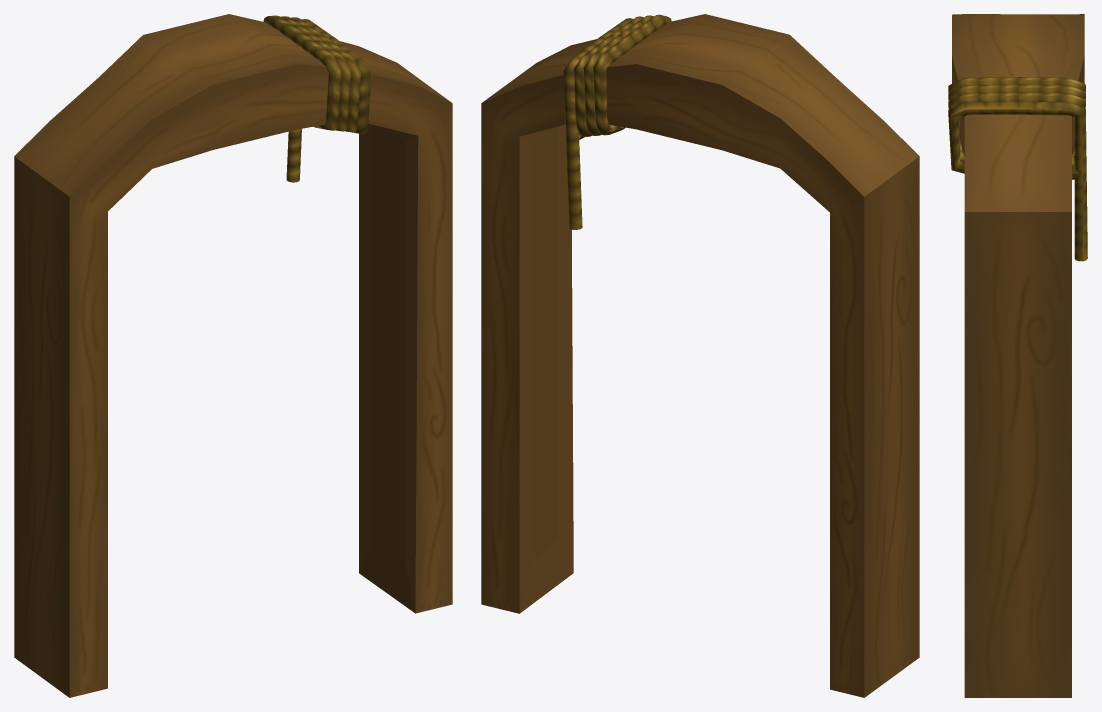
Rendered from Gate_Main_Open.fbx.
The picture shows the model from 3 angles, left to right: view 1: azimuth 30°, elevation 25°; view 2: azimuth 150°, elevation 25°; view 3: azimuth 270°, elevation 25°; orthographic projection. The views are drawn at different scales.
Parts seen in each view (by area): view 1: polySurface14; view 2: polySurface14; view 3: polySurface14.
Boxes of the visible parts, left/top/right/bottom form: polySurface14: left=14, top=14, right=452, bottom=697; polySurface14: left=481, top=14, right=919, bottom=697; polySurface14: left=948, top=14, right=1087, bottom=697.
Bounding box in the file's own units: 400 × 583 × 130.
